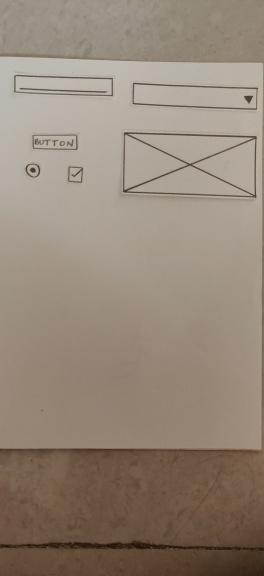button: (29, 131, 82, 153)
checkbox: (66, 164, 85, 185)
dropdown: (128, 79, 260, 116)
img: (120, 128, 260, 202)
radio: (22, 161, 44, 180)
text: (10, 71, 116, 102)
